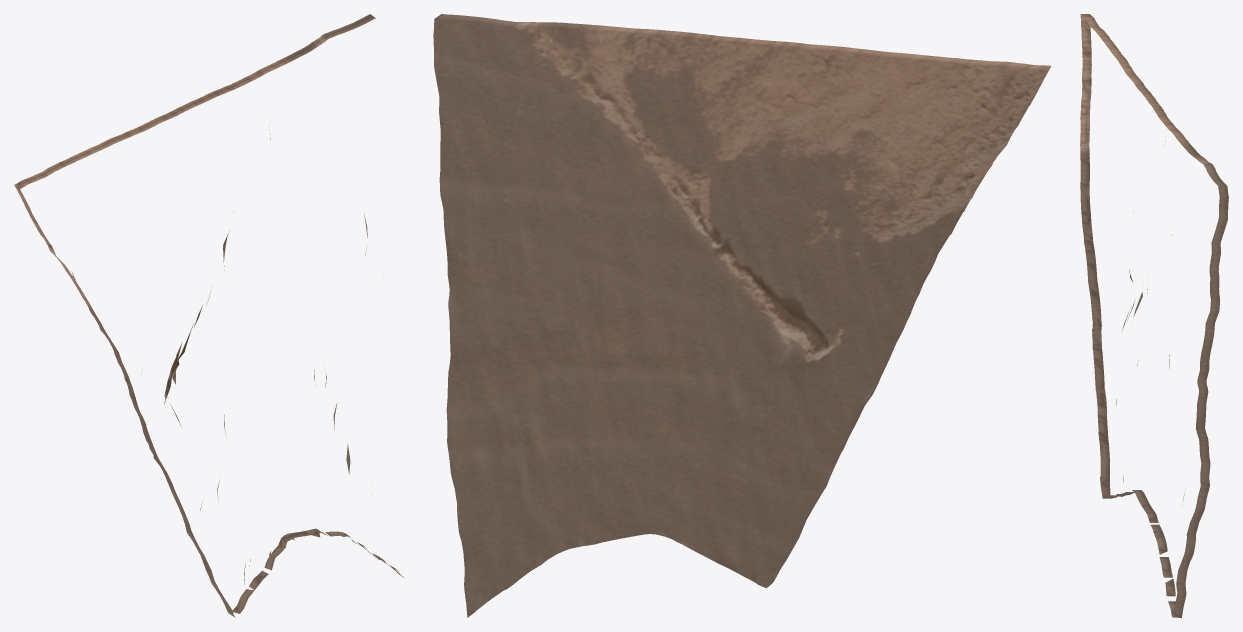
The picture shows the model from 3 angles, left to right: view 1: azimuth 30°, elevation 25°; view 2: azimuth 150°, elevation 25°; view 3: azimuth 270°, elevation 25°; orthographic projection. The views are drawn at different scales.
Size of the model in its own units: 0.4414 by 0.5143 by 0.1609.
1 material, 1 textured.
